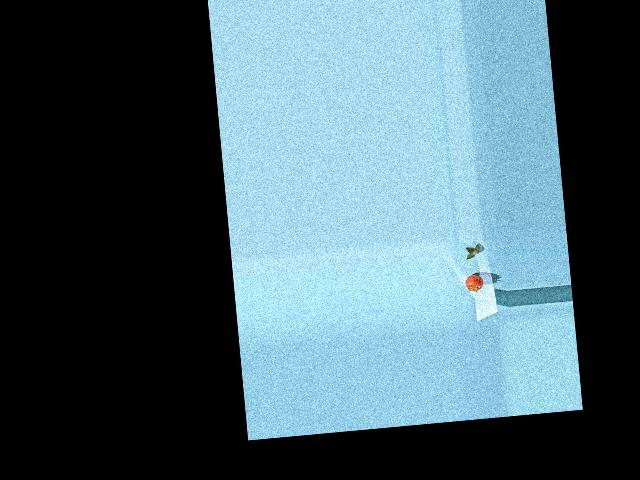tomato: (464, 274, 484, 292)
